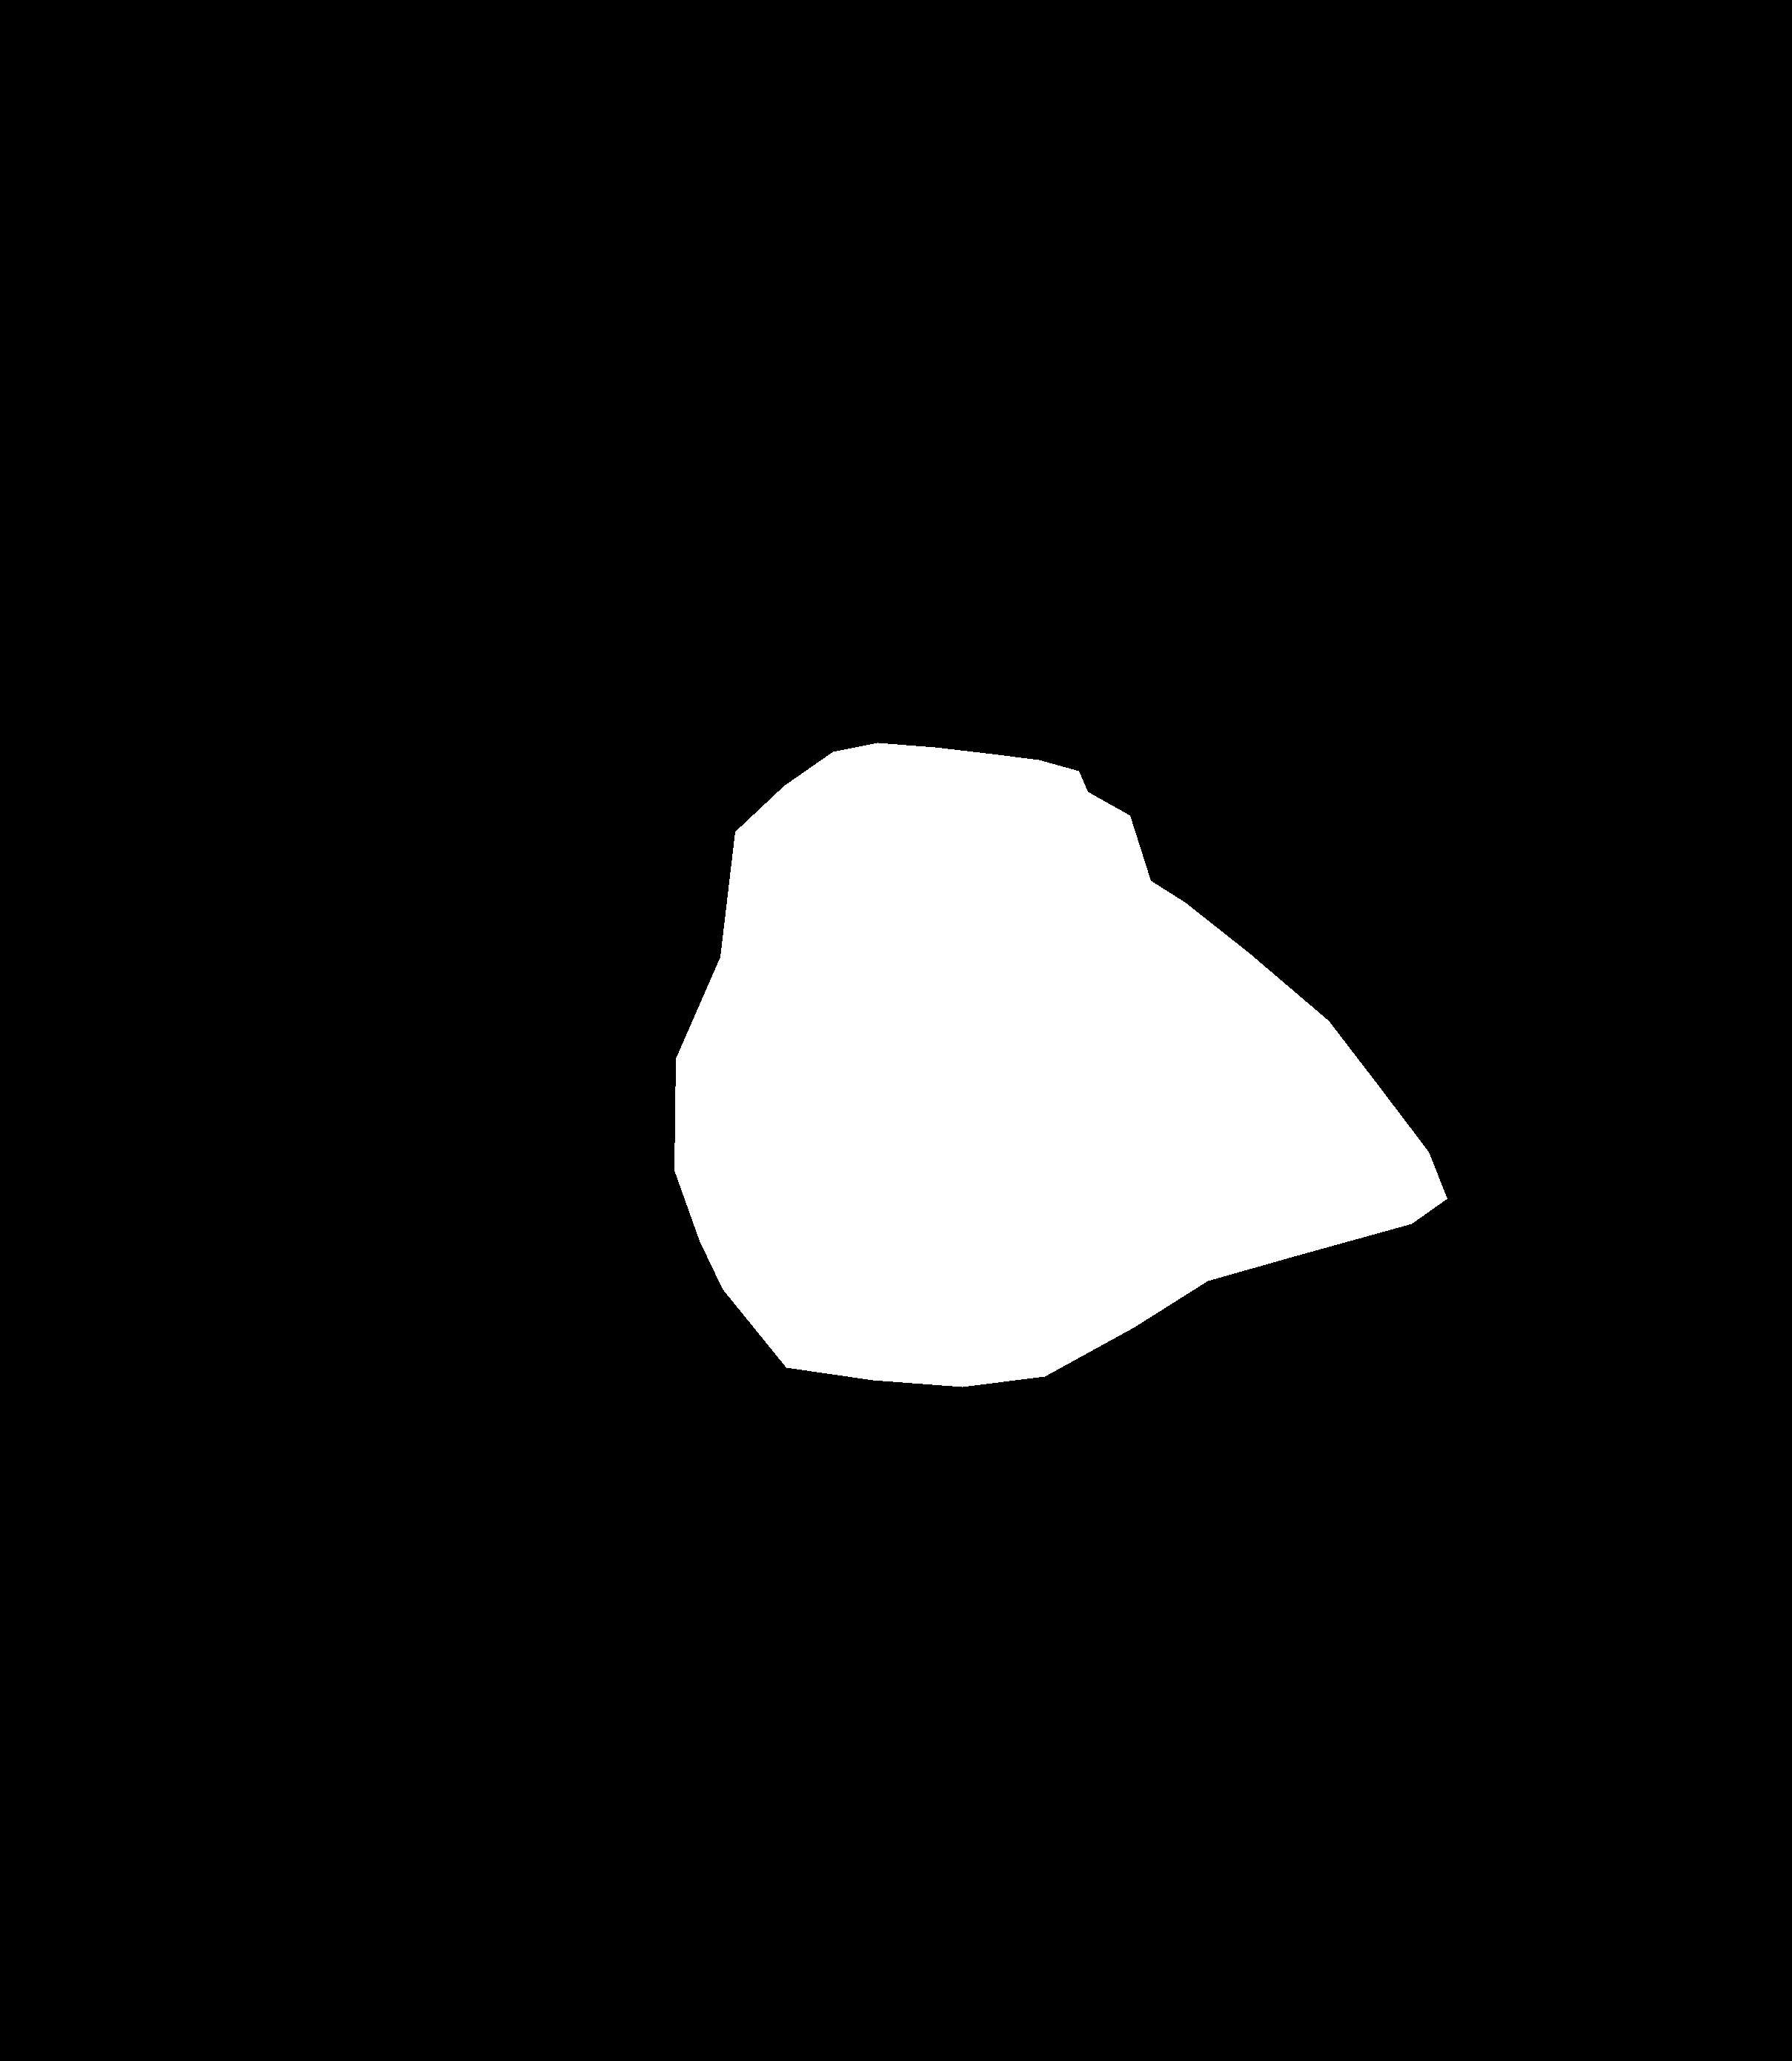heart: (675, 743, 1447, 1386)
left_lung: (193, 216, 842, 1404)
right_lung: (1040, 240, 1718, 1402)
